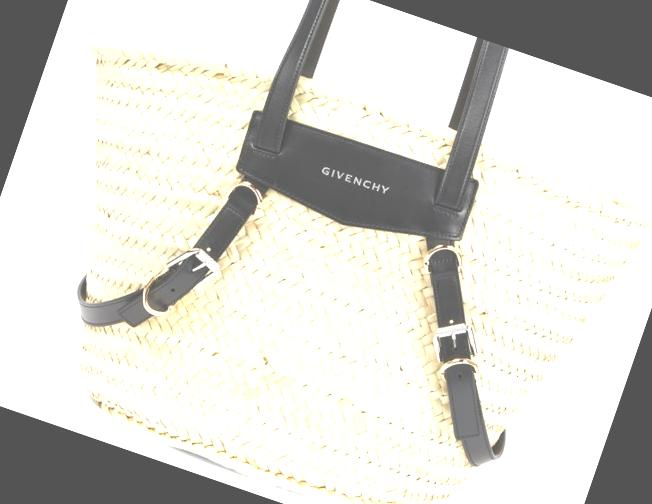GIVENCHY: (304, 146, 408, 216)
